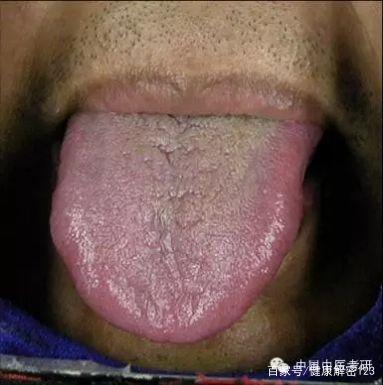huangtaishe: (50, 110, 319, 343)
liewenshe: (155, 113, 200, 168)
zishe: (50, 110, 319, 343)
